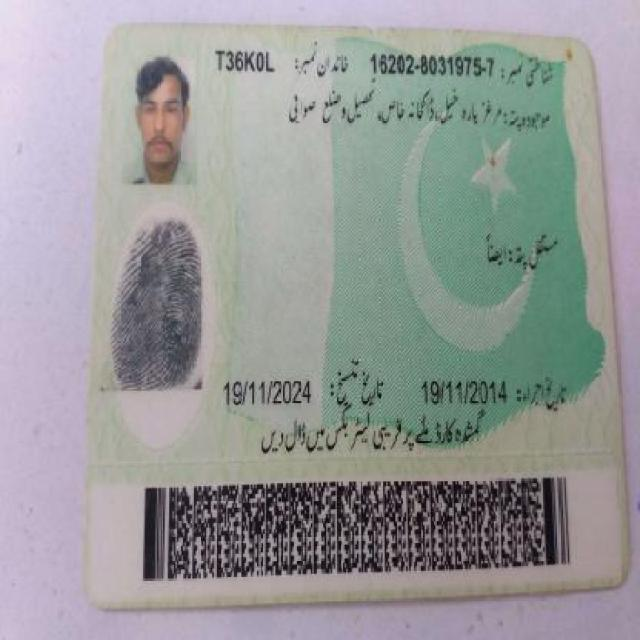Back: (83, 23, 625, 592)
